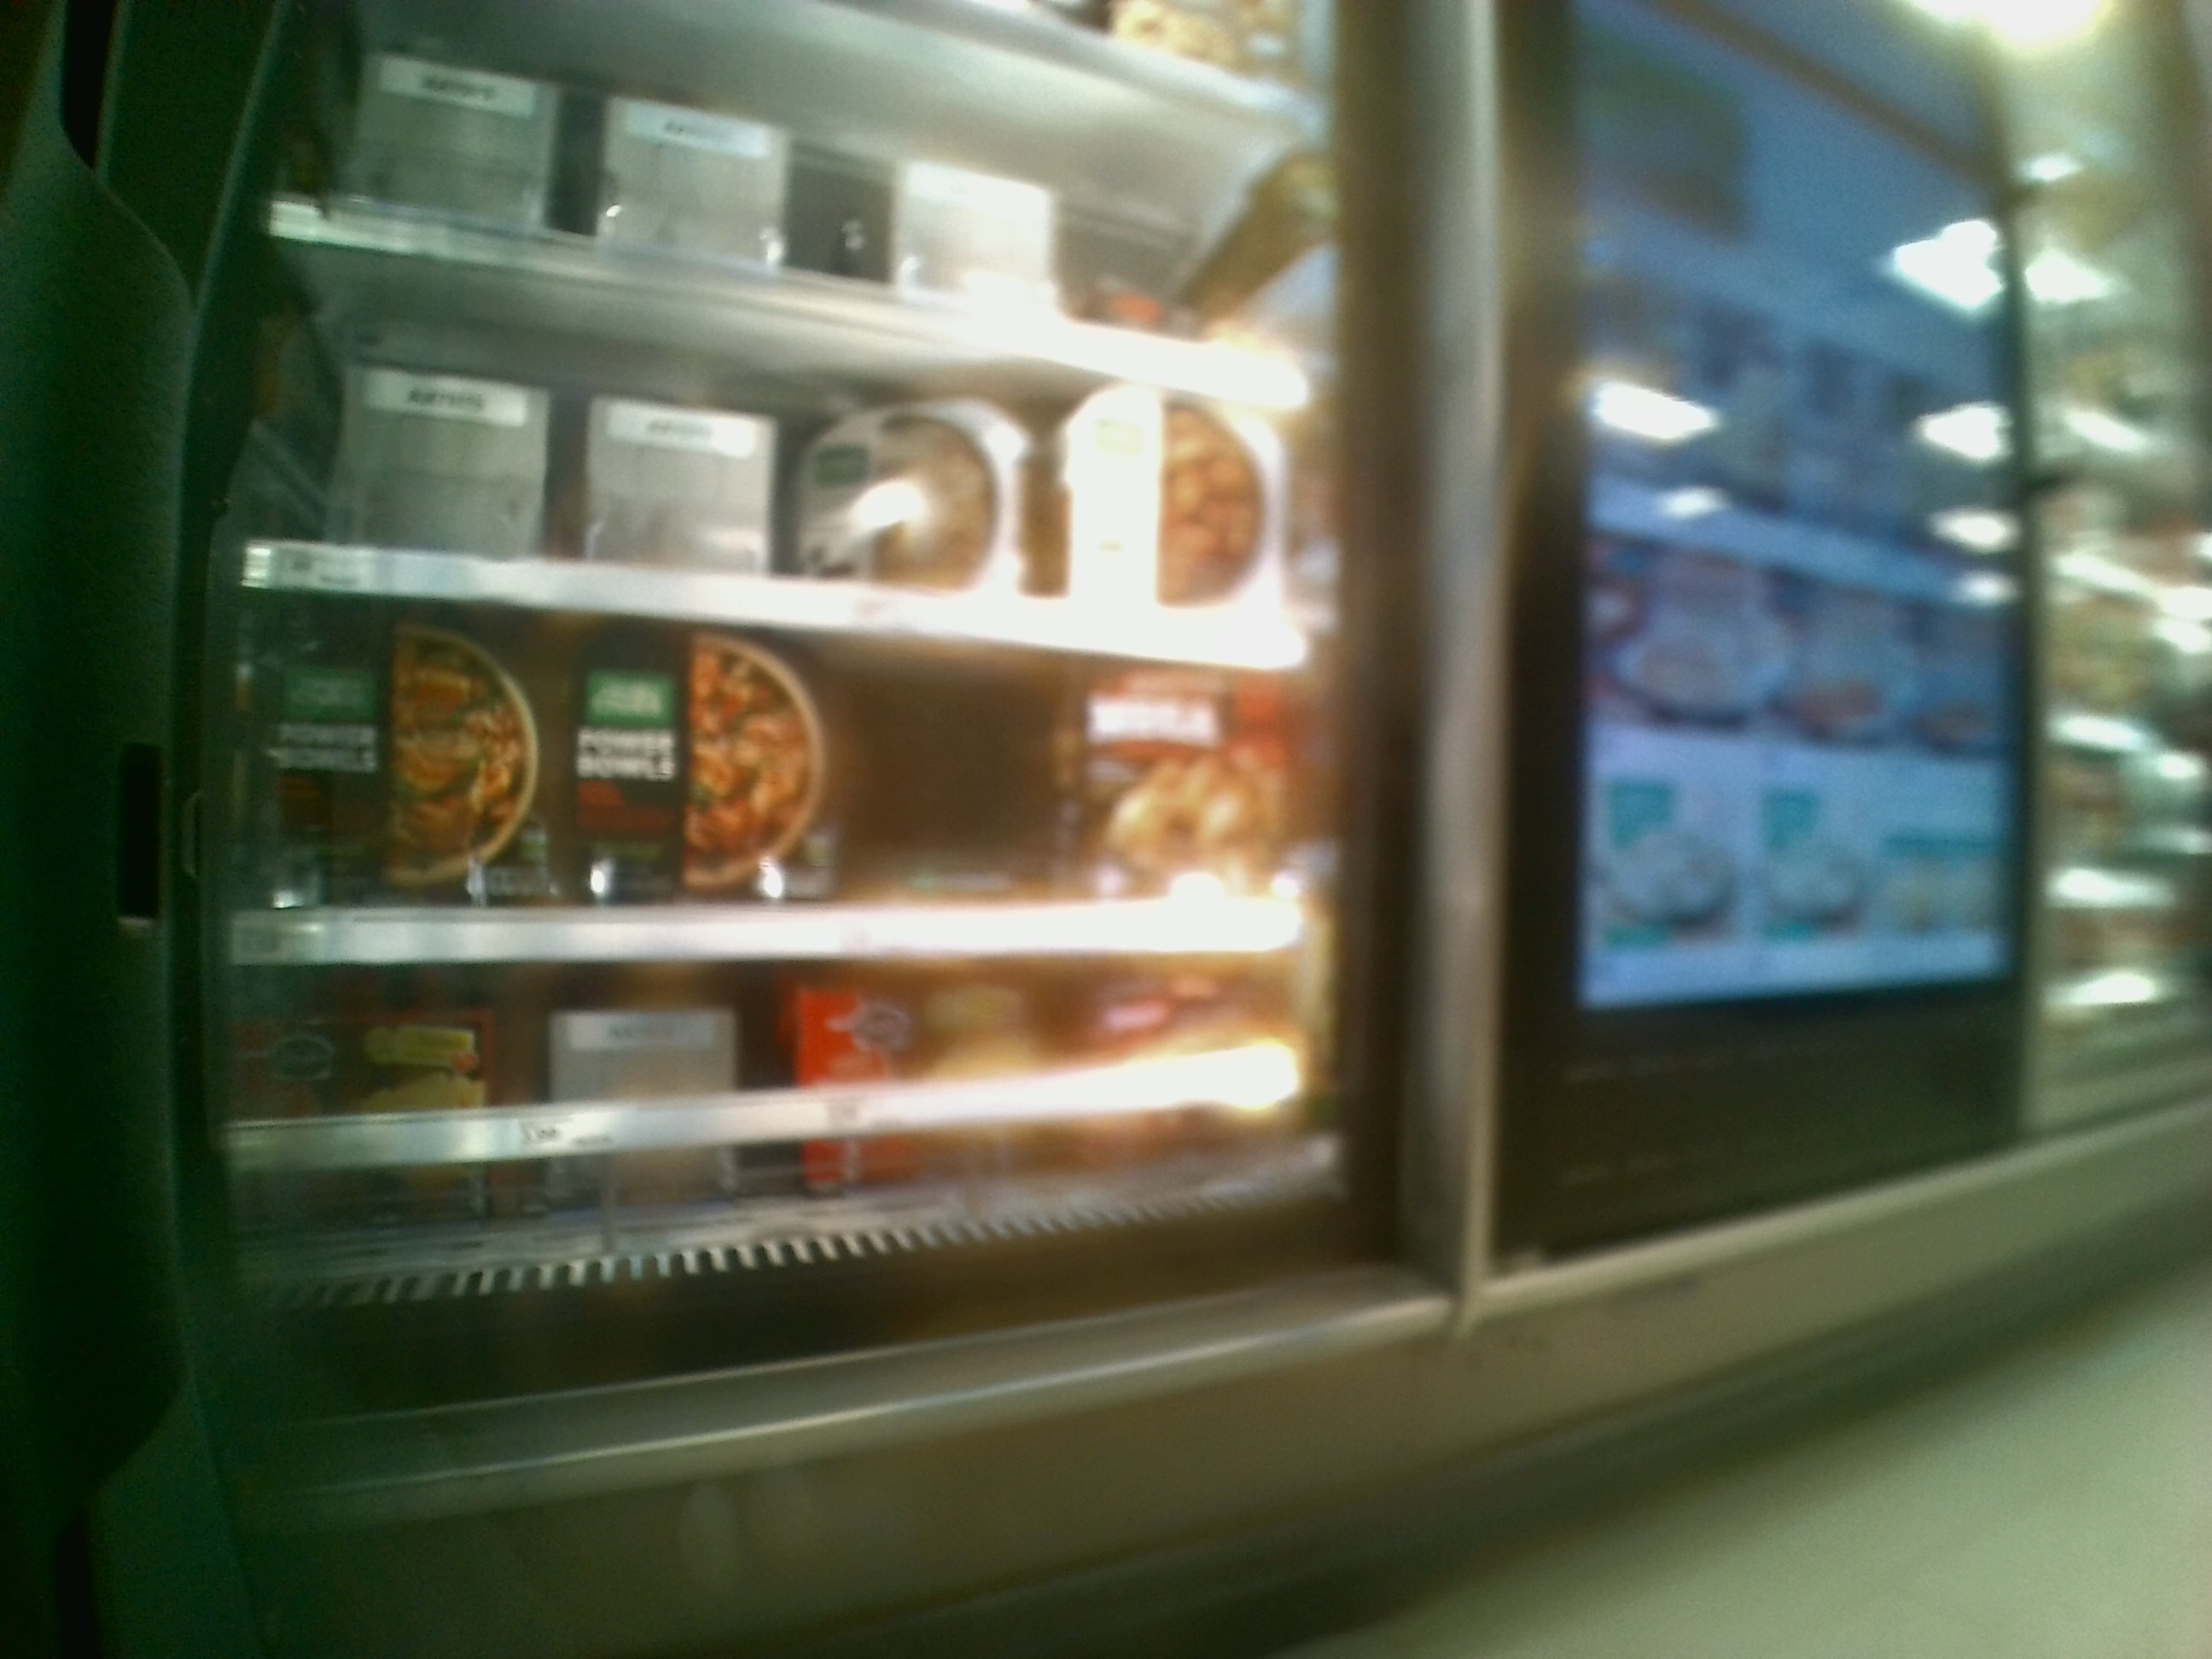shelf: (212, 958, 1327, 1344), (235, 587, 1331, 953)
